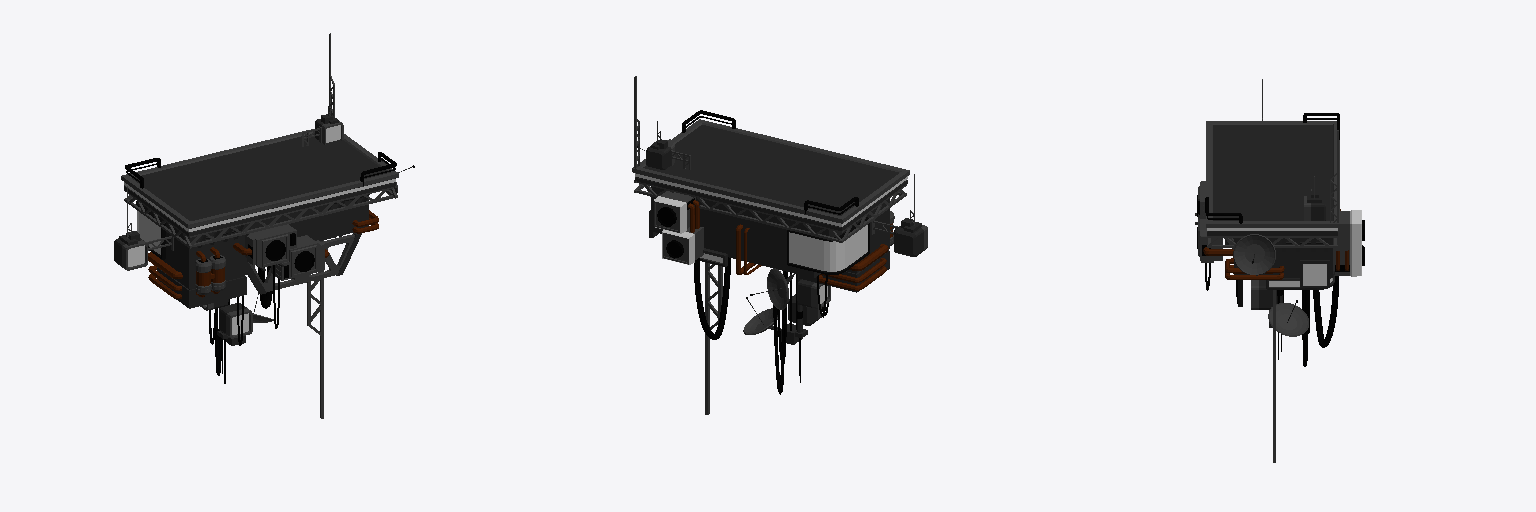
Rendered from Platform_4x2.obj.
The picture shows the model from 3 angles: view 1: azimuth 30°, elevation 25°; view 2: azimuth 150°, elevation 25°; view 3: azimuth 270°, elevation 25°; orthographic projection.
Visible parts, largest first — view 1: Platform_4x2_Cube.076; view 2: Platform_4x2_Cube.076; view 3: Platform_4x2_Cube.076.
Part boxes in pixels (x1,y1,x2,y2): Platform_4x2_Cube.076: (114, 33, 414, 418); Platform_4x2_Cube.076: (632, 76, 927, 414); Platform_4x2_Cube.076: (1195, 79, 1364, 462).
Bounding box in the file's own units: 5.32 × 6.16 × 2.71.